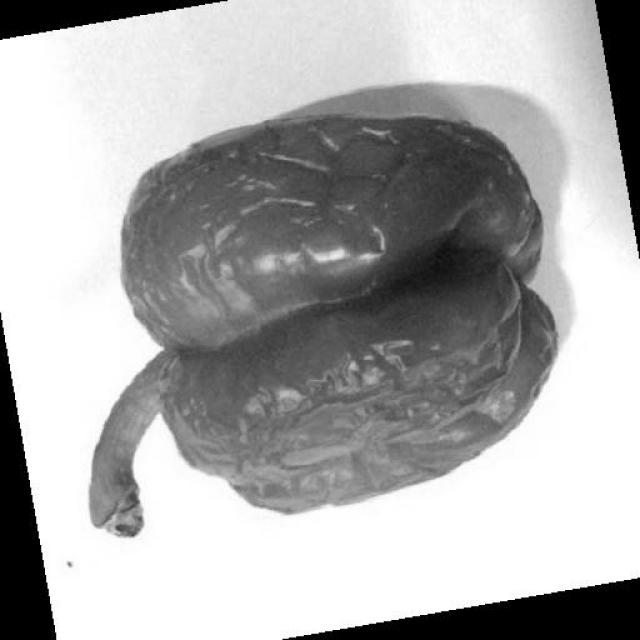Stale_Capsicum: (67, 67, 578, 516)
